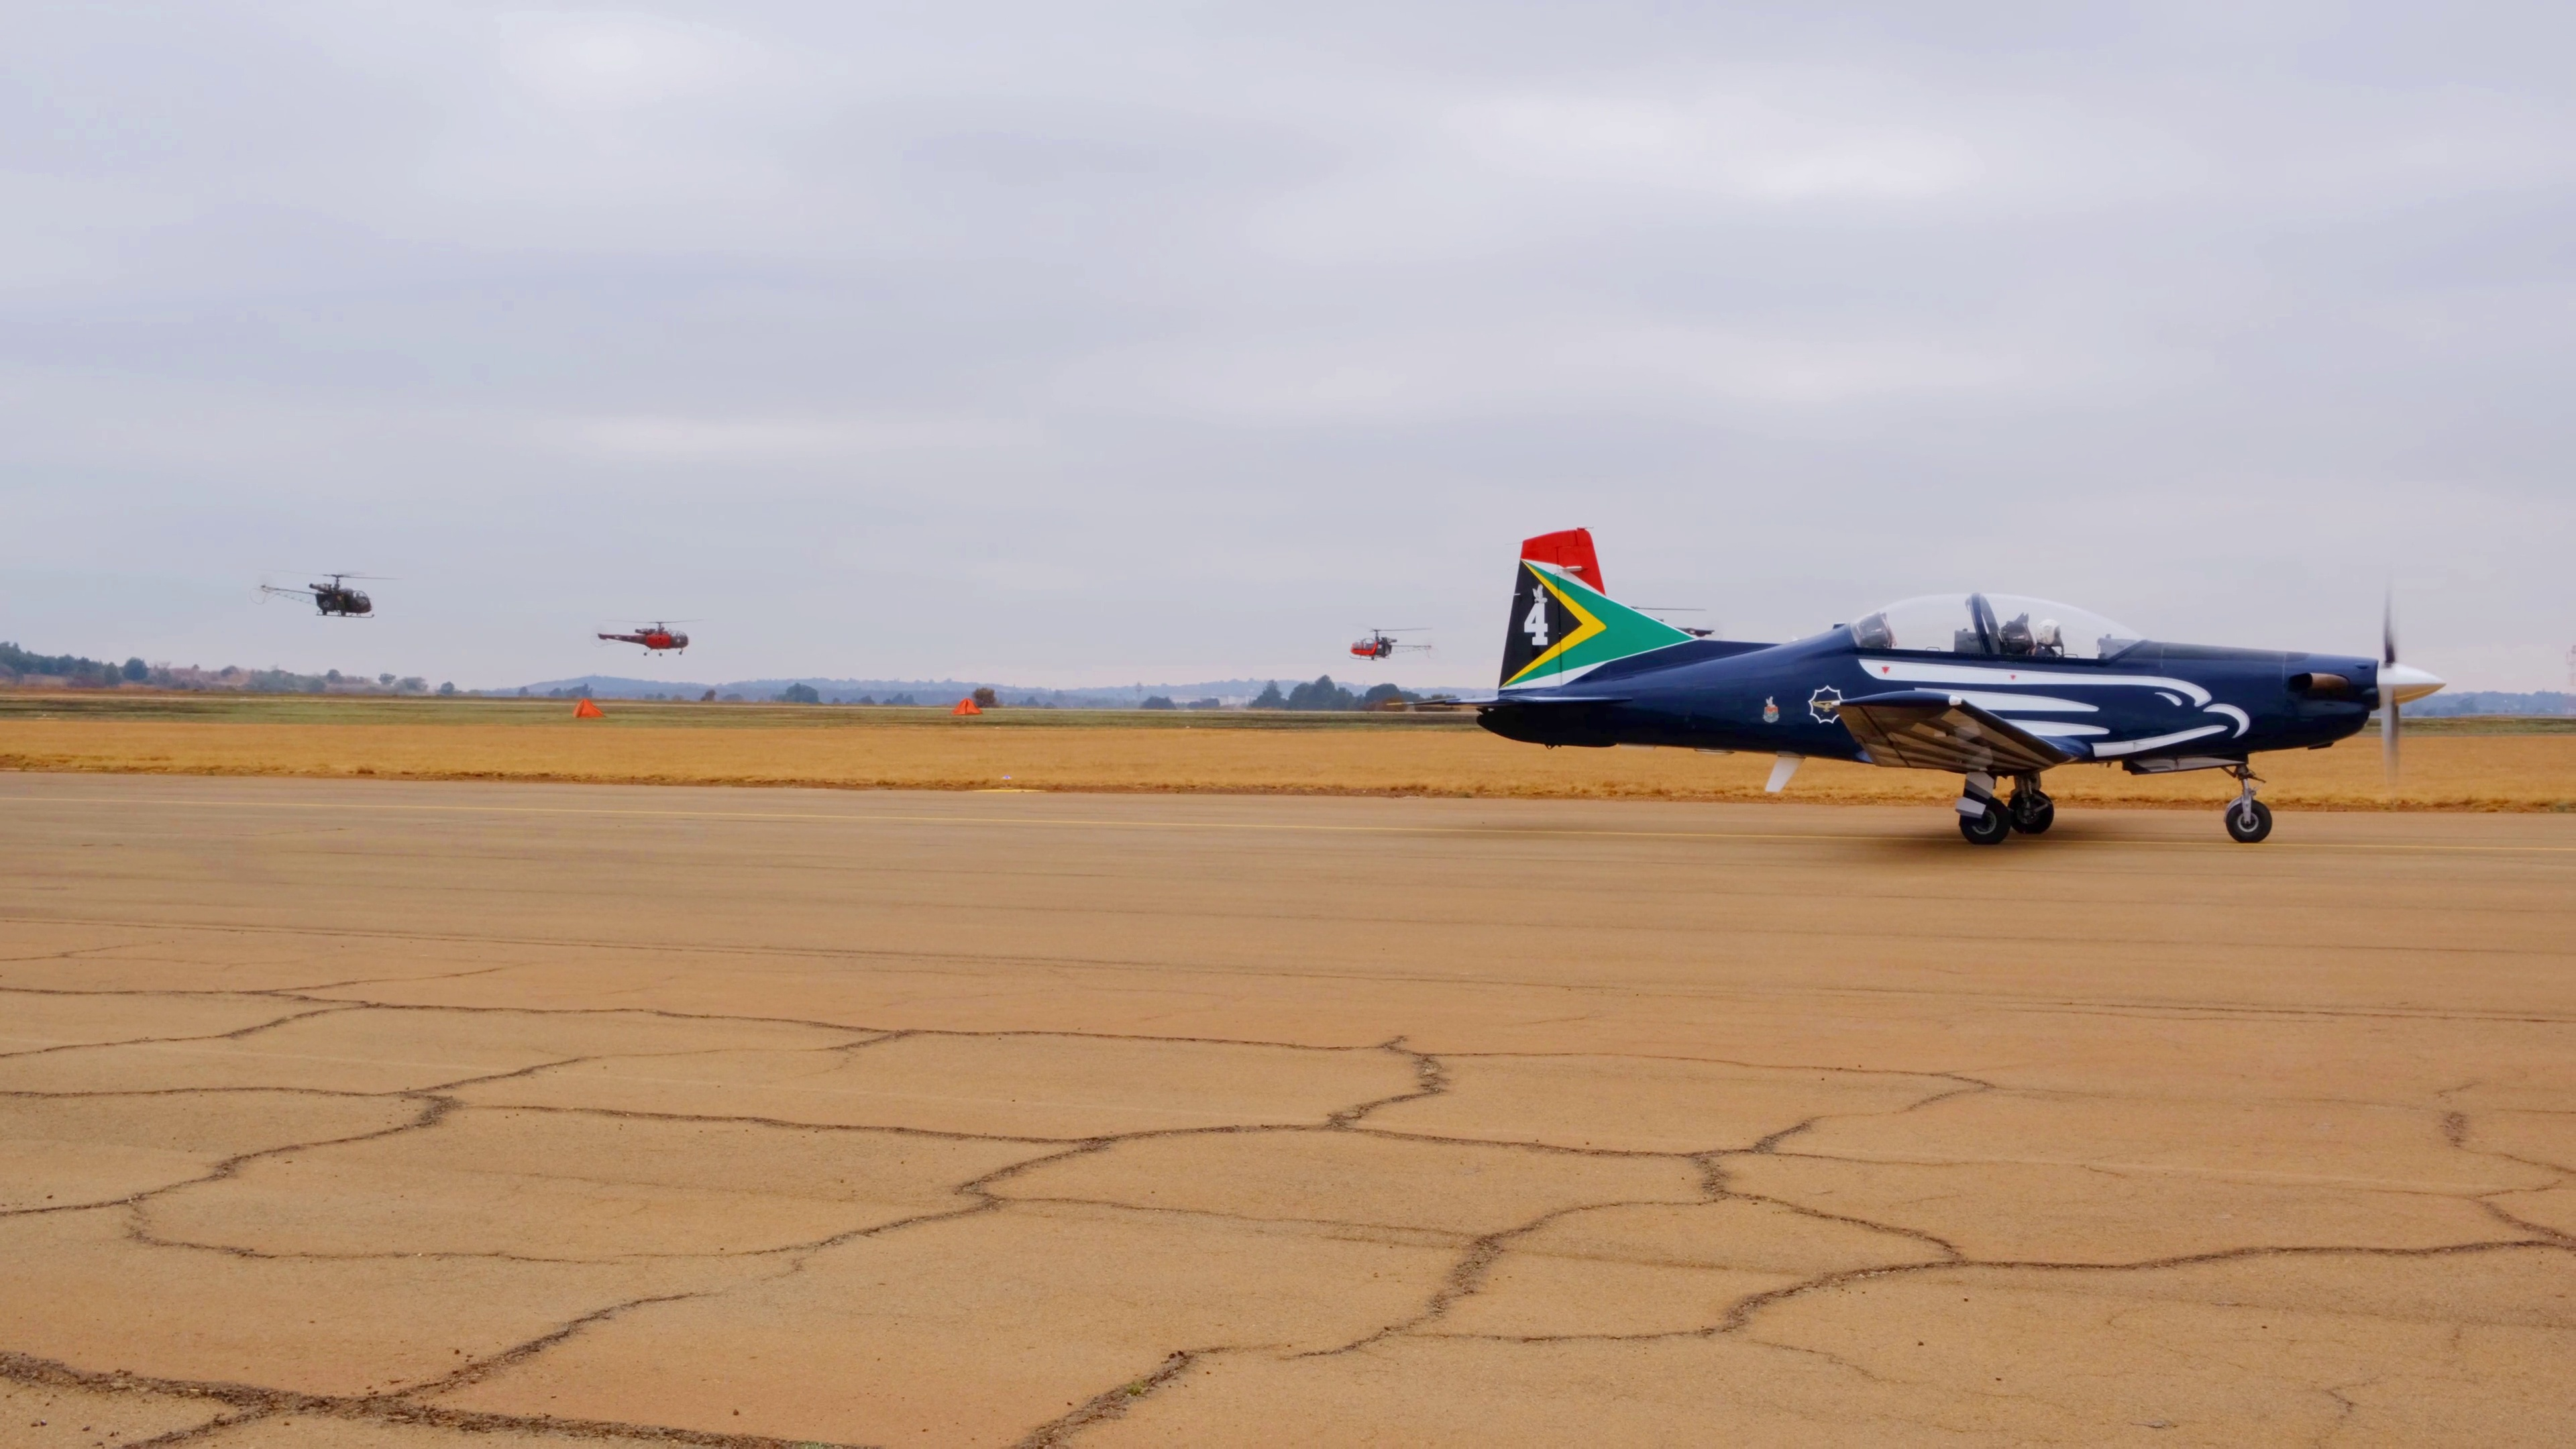heli: (258, 571, 382, 623), (1341, 621, 1430, 667), (598, 619, 694, 658)
plane: (1477, 527, 2443, 847)
